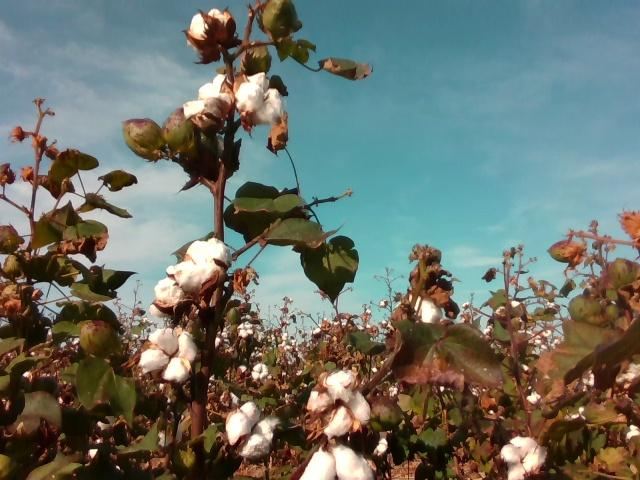cotton_ready: (306, 371, 372, 435), (224, 401, 280, 458), (167, 239, 229, 290), (139, 328, 196, 381), (181, 73, 232, 129), (299, 446, 377, 480), (237, 74, 284, 124), (501, 436, 546, 480), (186, 10, 233, 51), (150, 277, 190, 318), (412, 292, 440, 322)
